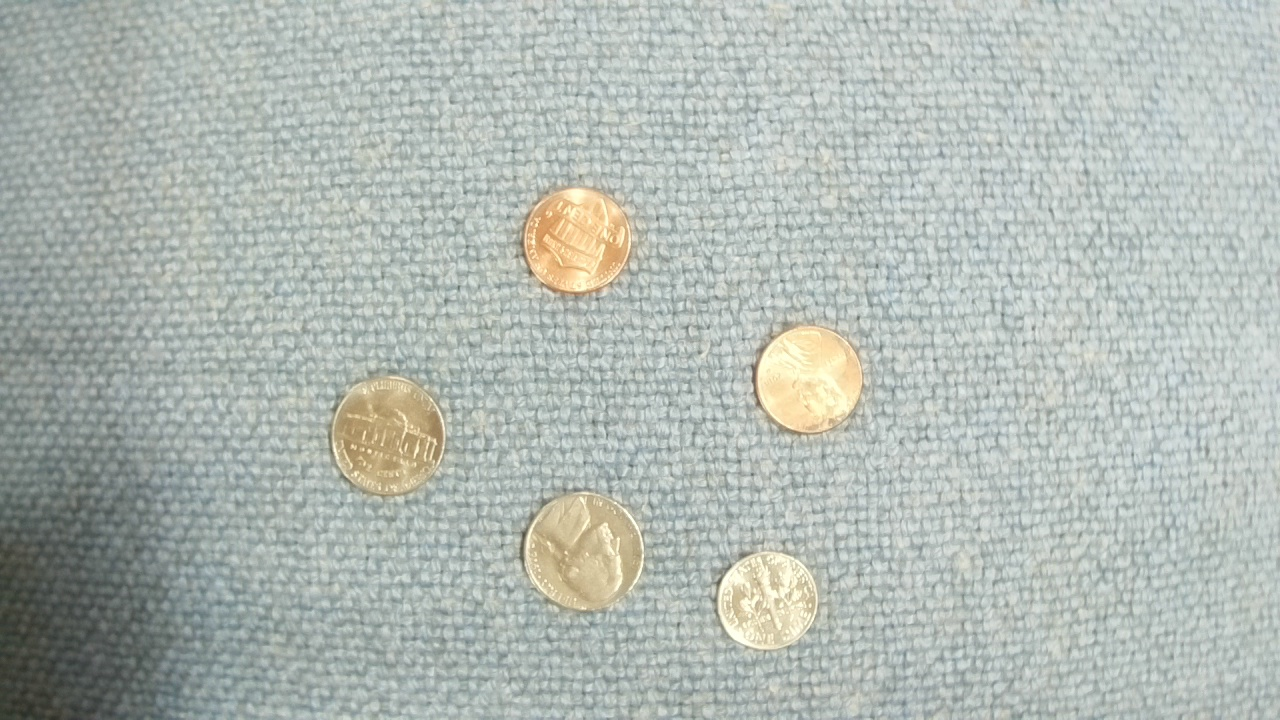dime: (716, 549, 818, 651)
nickel: (521, 490, 649, 613), (329, 374, 447, 502)
penny: (521, 185, 634, 296), (754, 321, 862, 433)
